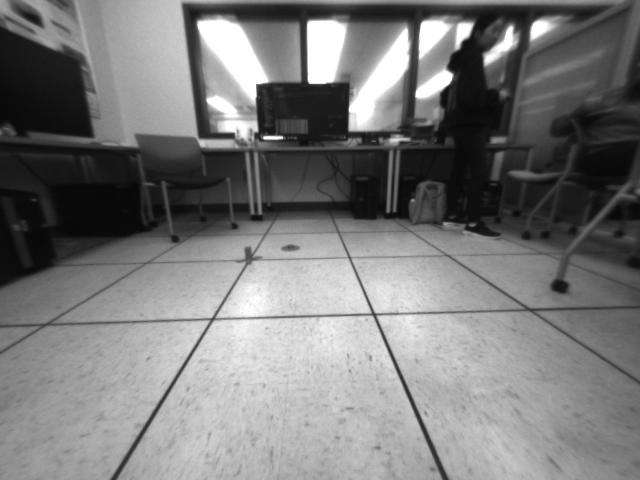X: (234, 246, 264, 266)
